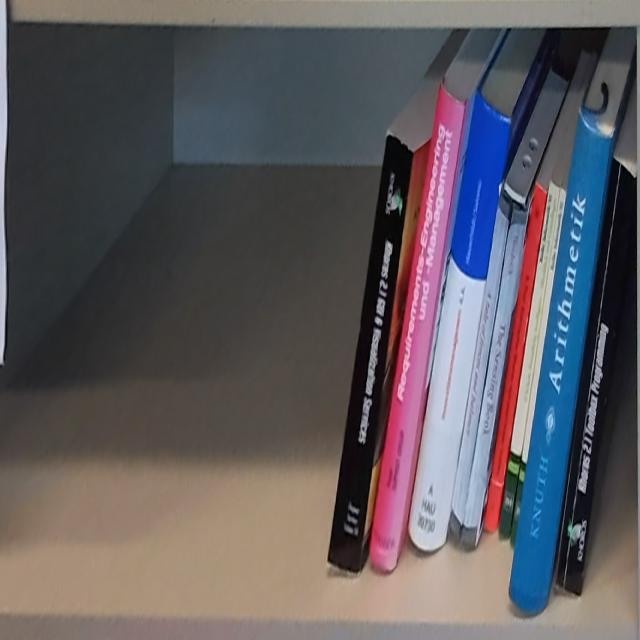Book Spine: (508, 107, 615, 614), (365, 76, 469, 570), (408, 84, 513, 565), (329, 137, 413, 584), (556, 155, 636, 600), (459, 209, 528, 550), (484, 185, 549, 540), (448, 190, 512, 550), (498, 179, 561, 539), (509, 185, 567, 548)
